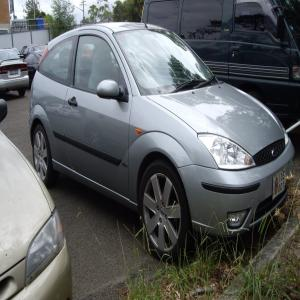Vehicle-registration-plate: (273, 168, 287, 203), (9, 68, 19, 78)
